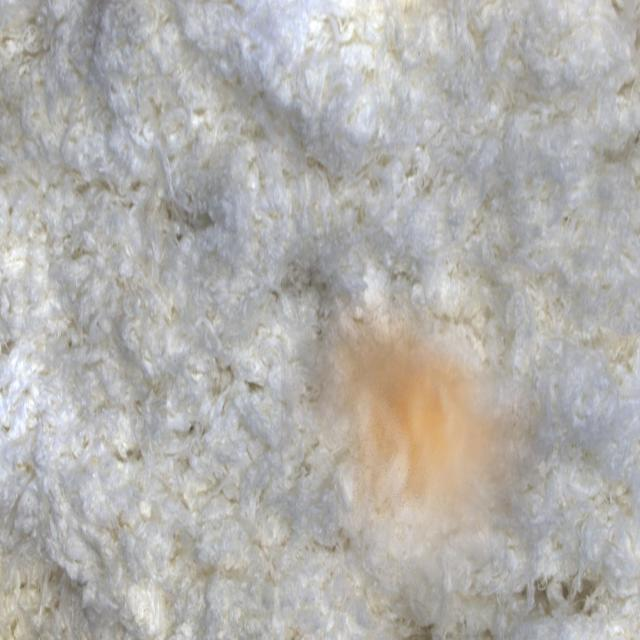dust: (281, 290, 548, 635)
